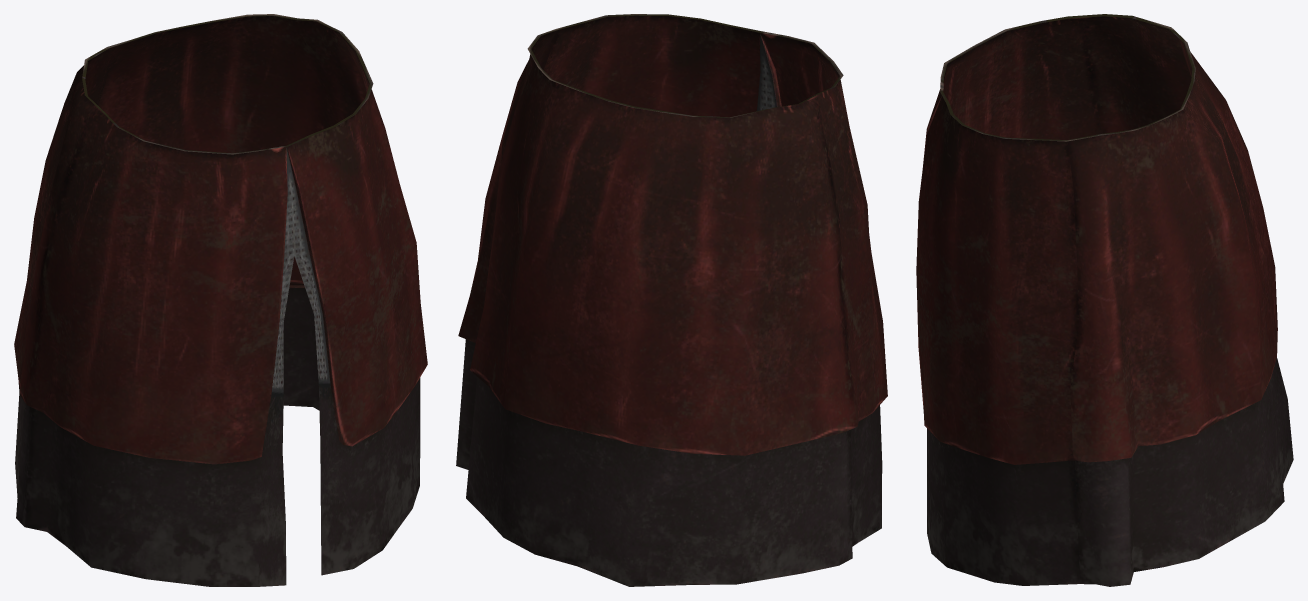
Rendered from clo_cts_gondor_armor1.fbx.
3 views of the same model, side by side, from view 1: azimuth 30°, elevation 25°; view 2: azimuth 150°, elevation 25°; view 3: azimuth 270°, elevation 25° (orthographic). The views are drawn at different scales.
Visible parts, largest first — view 1: clo_cts_gondor_armor1; view 2: clo_cts_gondor_armor1; view 3: clo_cts_gondor_armor1.
Boxes of the visible parts, x1,y1,x2,y2 form: clo_cts_gondor_armor1: (14,14,427,586); clo_cts_gondor_armor1: (456,14,887,586); clo_cts_gondor_armor1: (916,14,1293,586).
Bounding box in the file's own units: 0.522 × 0.4511 × 0.6008.
1 material, 1 textured.
